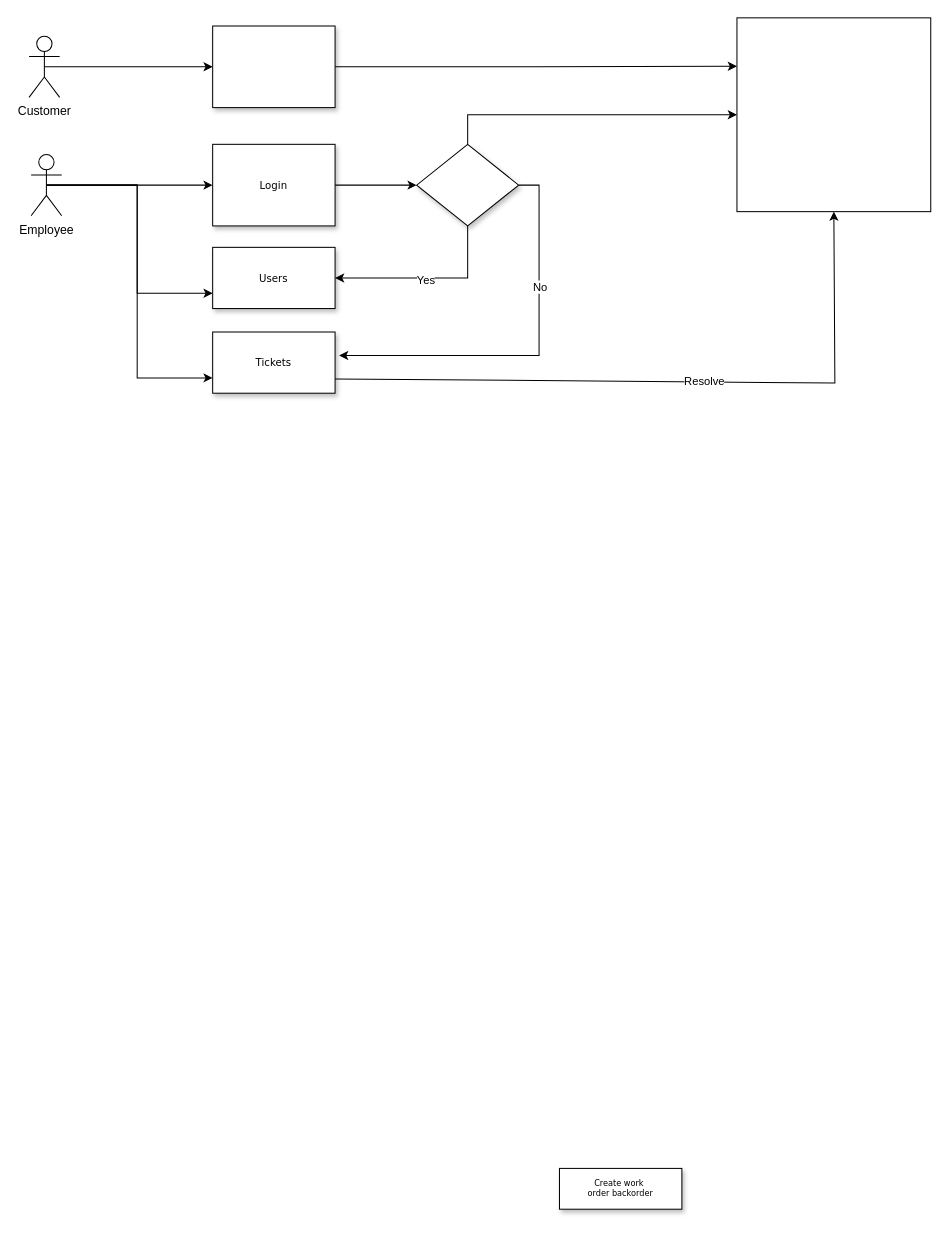
This 949x1234 diagram has some shape labels left out. The shapes that lost their labels are listed below. From the top down, each one's centre as x and y in pixels, then its label:
the point at 274,68: Create Ticket
the point at 833,114: App
the point at 468,186: IsAdmin
